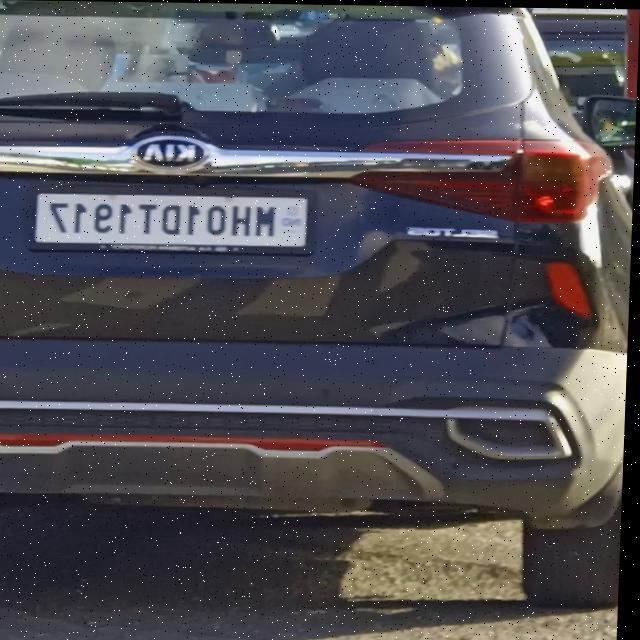plate: (33, 189, 317, 251)
